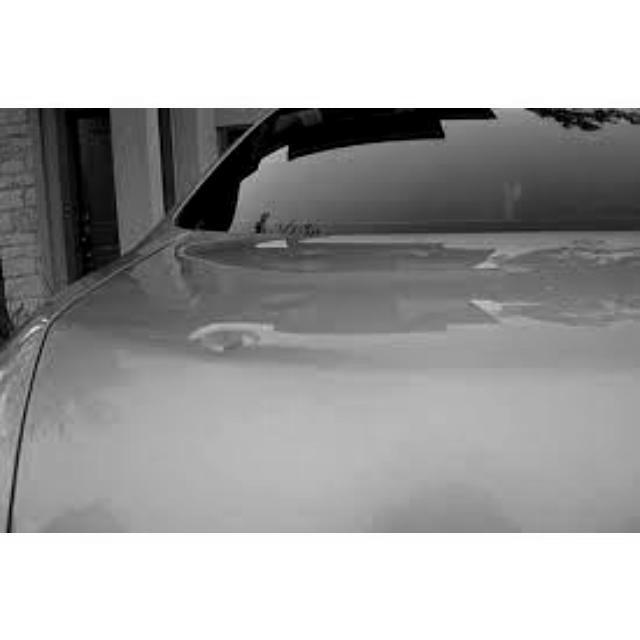bonnet-dent: (26, 262, 638, 531)
